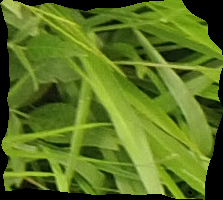grass: (1, 1, 222, 199)
